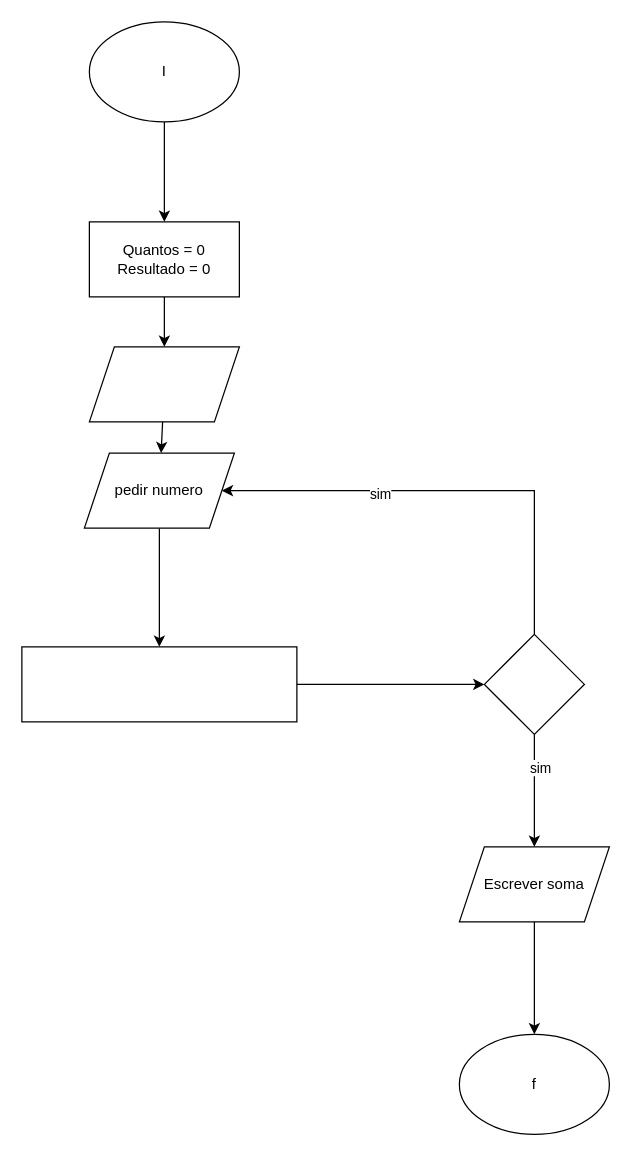
Some shapes in this 631 by 1156 pixel diagram are drawn without their labels. Here are the shapes that lost their labels. From the top down, the box of each, then its label:
(88, 346, 239, 422): Pedir Quantos
(21, 646, 297, 722): Soma = soma + numero Quantos = Quantos-1
(483, 633, 584, 734): Quantos = 0
